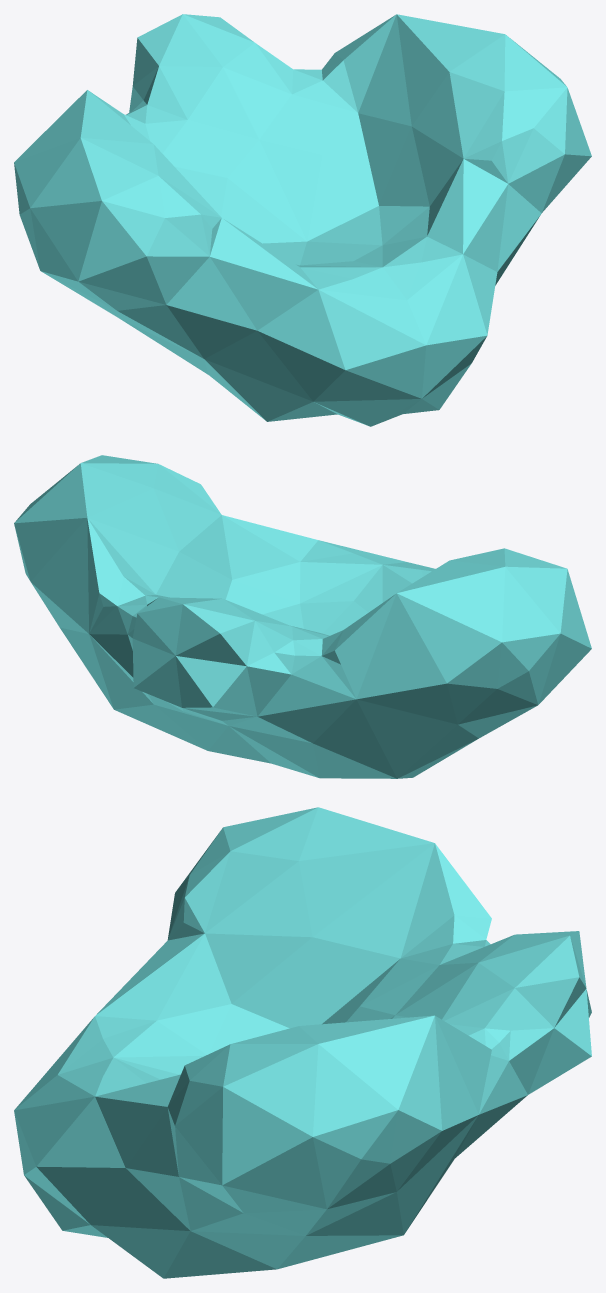
The model's file is better rounded bird killer t cell.fbx.
3 views of the same model, one above another, from view 1: azimuth 30°, elevation 25°; view 2: azimuth 150°, elevation 25°; view 3: azimuth 270°, elevation 25° (orthographic). The views are drawn at different scales.
Parts seen in each view (by area): view 1: new_rounded_bird_killer_t_cell:Mesh; view 2: new_rounded_bird_killer_t_cell:Mesh; view 3: new_rounded_bird_killer_t_cell:Mesh.
Part boxes in pixels (left/top/right/bottom): new_rounded_bird_killer_t_cell:Mesh: left=14, top=14, right=591, bottom=426; new_rounded_bird_killer_t_cell:Mesh: left=14, top=455, right=591, bottom=778; new_rounded_bird_killer_t_cell:Mesh: left=14, top=807, right=591, bottom=1278.
Size of the model in its own units: 6.77 by 3.21 by 5.59.
